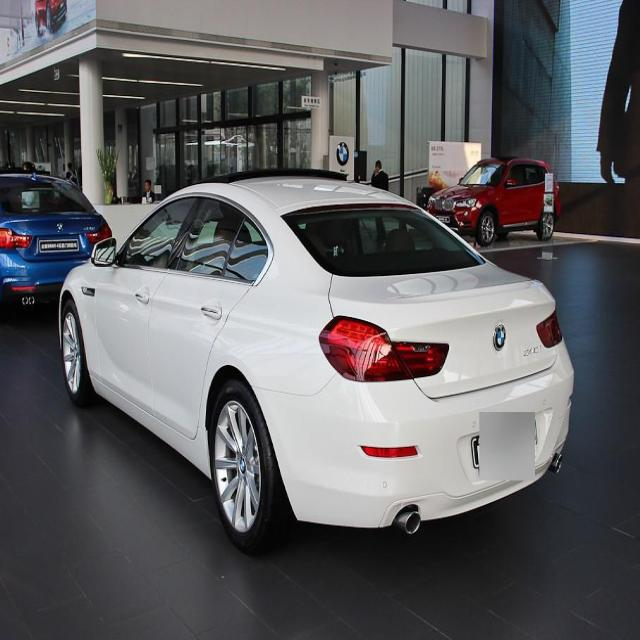back_glass: (280, 203, 488, 280)
back_left_side_light: (318, 314, 450, 384)
back_right_side_light: (535, 304, 564, 348)
door: (152, 199, 272, 433)
front_left_side_door: (95, 190, 194, 419)
front_left_side_mirror: (91, 235, 118, 268)
rear_bumper: (248, 342, 576, 530)
wheel: (209, 377, 291, 552), (60, 296, 97, 408)
